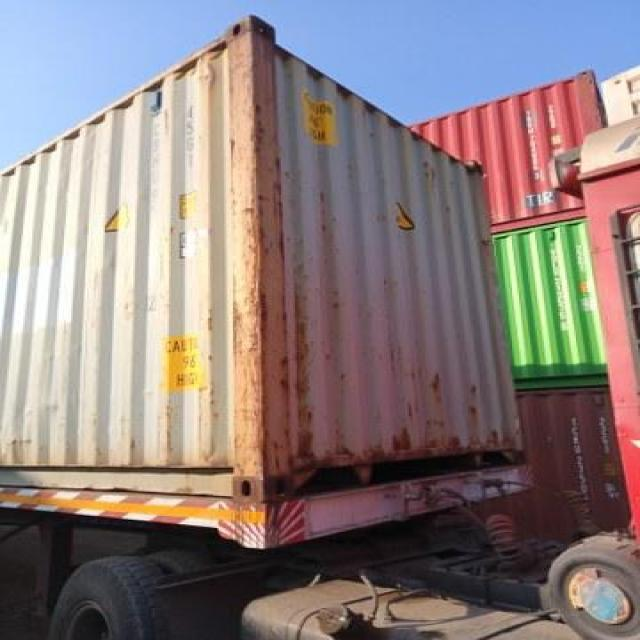rust: (254, 97, 288, 506), (321, 434, 365, 475), (384, 437, 434, 461), (489, 429, 516, 460), (437, 382, 453, 407)
